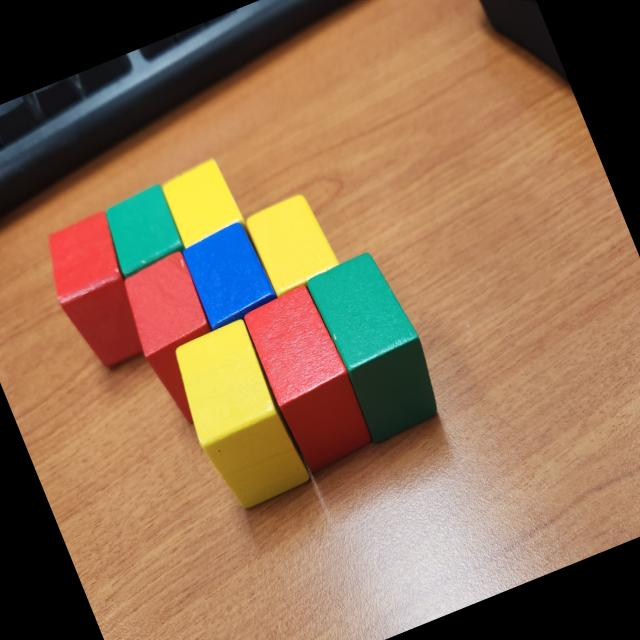blue: (174, 216, 280, 332)
green: (299, 243, 451, 448), (94, 181, 188, 277)
red: (234, 277, 381, 480), (112, 249, 243, 430), (32, 209, 162, 381)
yellow: (158, 312, 320, 526), (242, 188, 341, 296), (154, 156, 246, 248)
